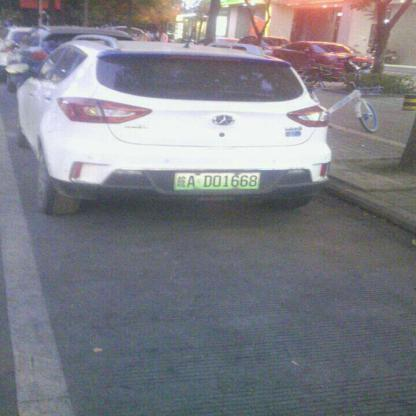lp: (174, 171, 260, 190)
